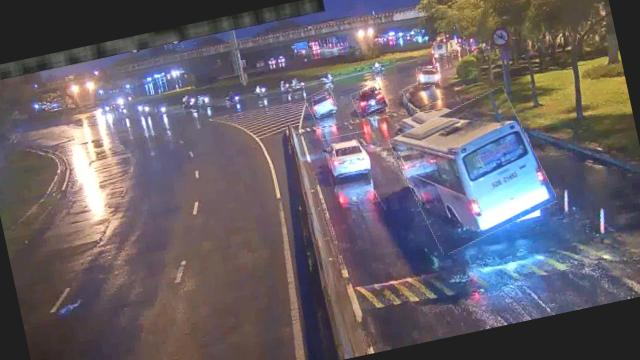Bus: (390, 87, 556, 253)
Car: (322, 130, 374, 188), (350, 82, 389, 118), (402, 78, 441, 112), (306, 87, 338, 118), (415, 63, 442, 87)
